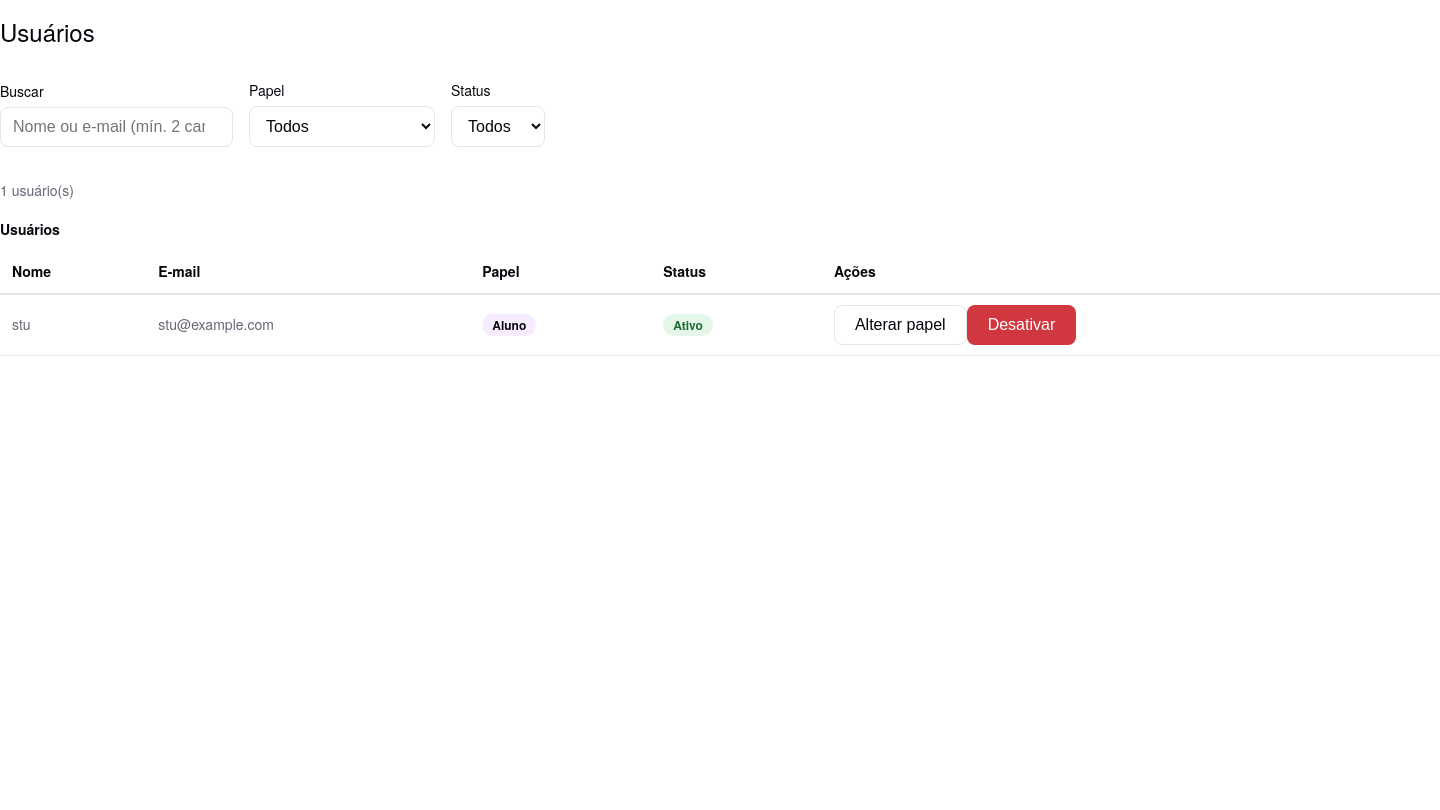
Test case: AdminUsersPage › opens the change role dialog for a row
Click the button with aria-label "Alterar papel de stu@example.com": (900, 325) [834,305,967,345]
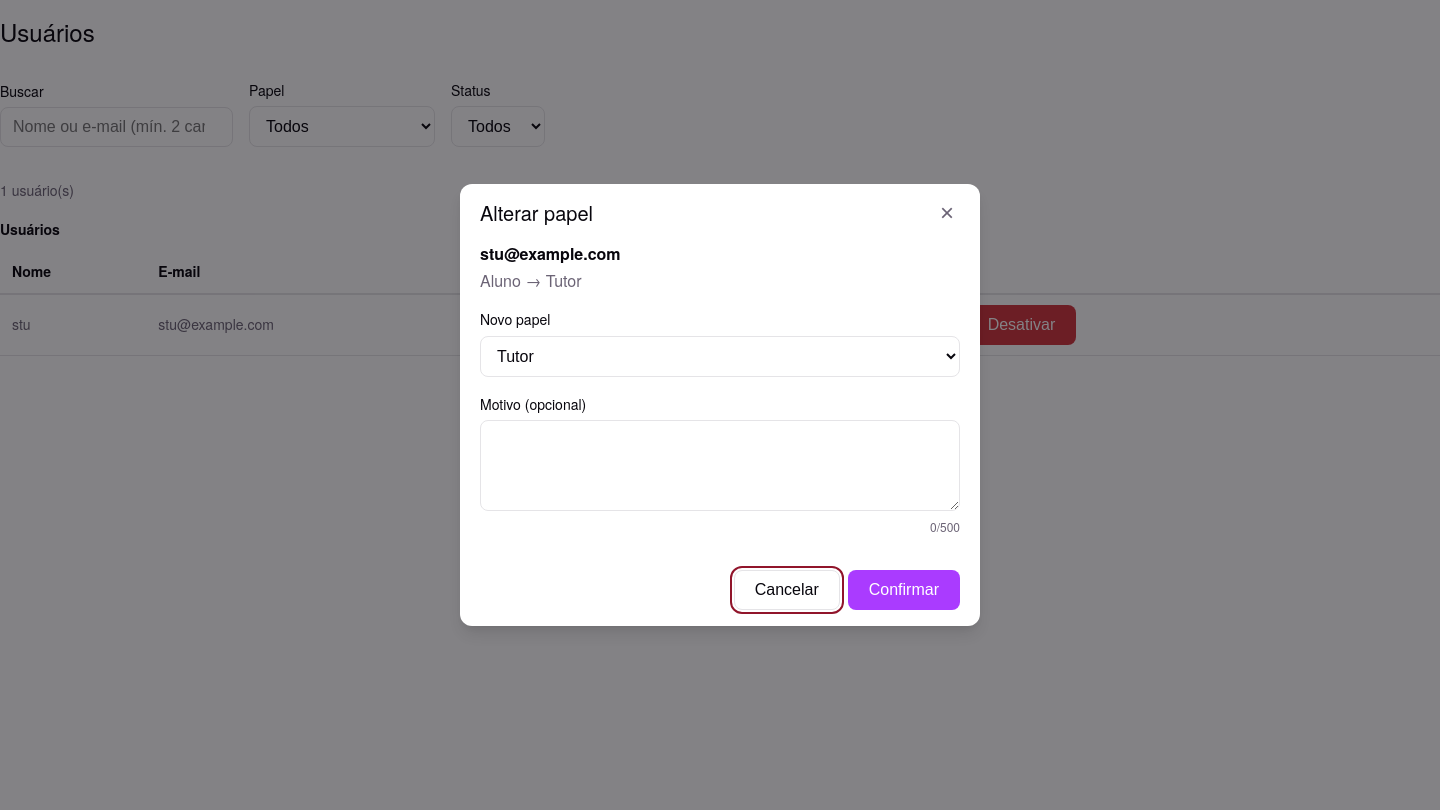
Expected: the dialog is shown, [460,184,980,626]
Expected: the text "stu@example.com" is shown, [480,242,621,265]
